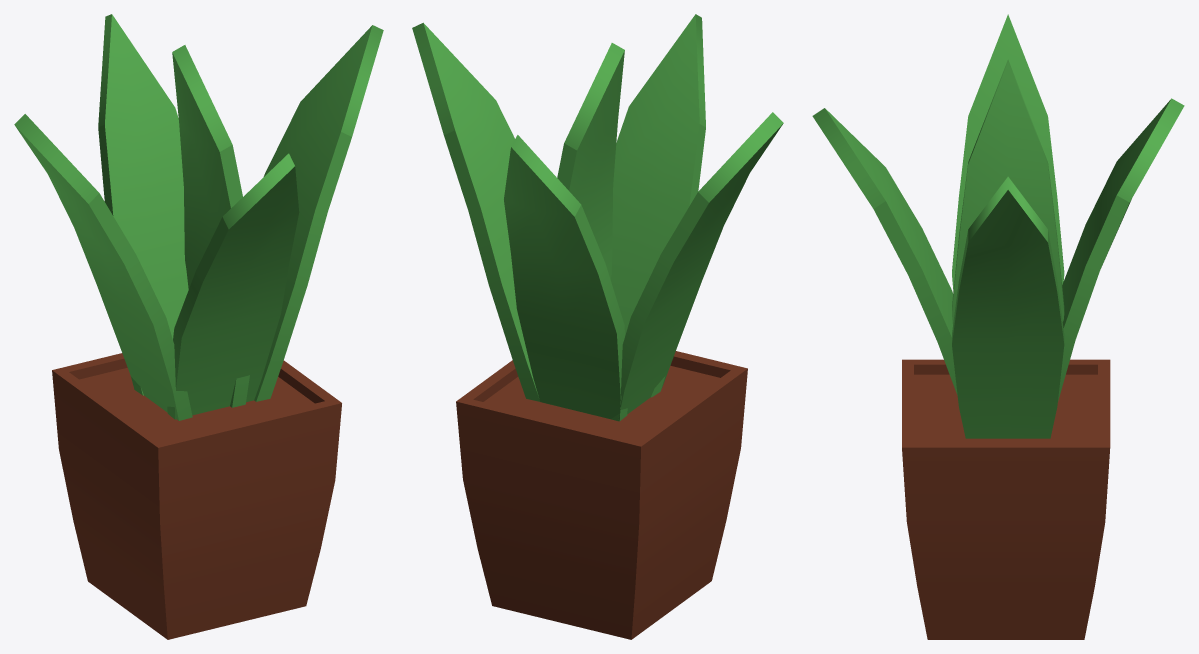
File: Plant.fbx
3 views of the same model, side by side, from view 1: azimuth 30°, elevation 25°; view 2: azimuth 150°, elevation 25°; view 3: azimuth 270°, elevation 25° (orthographic). The views are drawn at different scales.
Parts seen in each view (by area): view 1: Plant; view 2: Plant; view 3: Plant.
Boxes of the visible parts, x1=… form: Plant: x1=14, y1=14, x2=383, y2=639; Plant: x1=412, y1=14, x2=783, y2=639; Plant: x1=812, y1=14, x2=1184, y2=639.
Size of the model in its own units: 0.5872 by 0.8368 by 0.5224.
